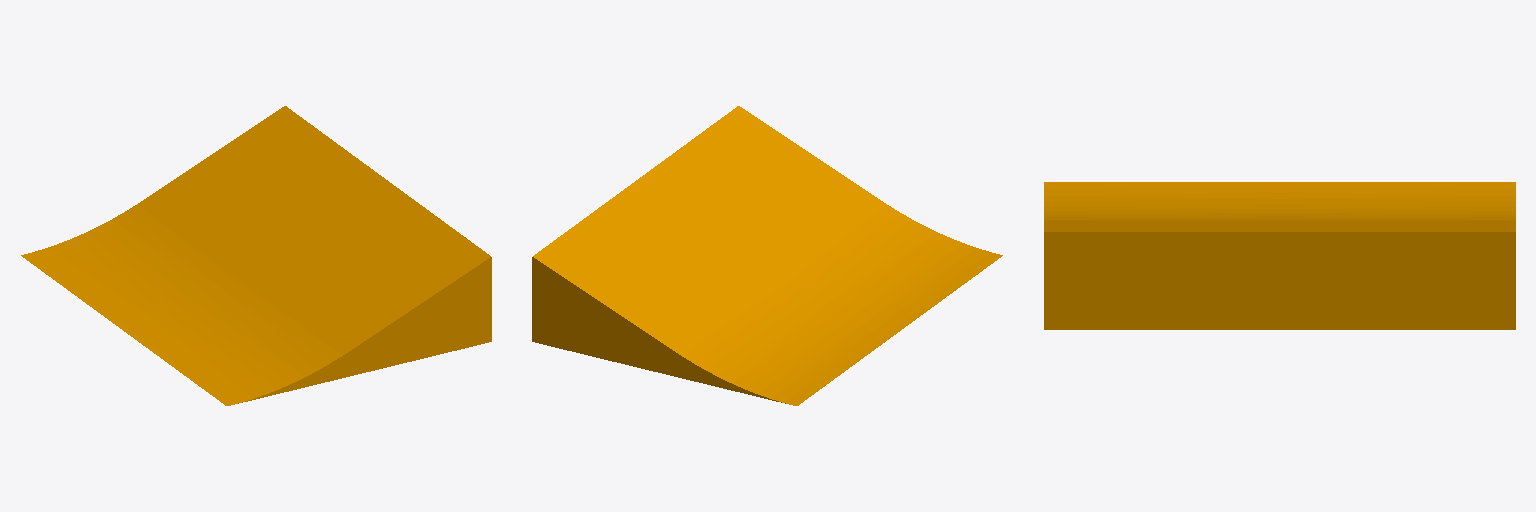
robot.urdf — jump22deg:
<?xml version="1.0"?>

<robot name="jump22deg">
  <gazebo>
    <static>true</static>
  </gazebo>
  <link name="jump22deg_link">
    <origin pose="0 0 0 0 0 0"/>
    <collision name="jump22deg_collision">
      <geometry>
        <mesh filename="package://autorally_description/urdf/jump22deg.stl" scale="0.01 0.01 0.01" />
      </geometry>
    </collision>
    
    <visual name="jump22deg_visual" cast_shadows="false">
      <geometry>
        <mesh filename="package://autorally_description/urdf/jump22deg.stl" scale="0.01 0.01 0.01" />
      </geometry>
    </visual>
    <inertial>
      <origin xyz="0 0 0" />
      <mass value="1000000000.0" />
      <inertia  ixx="1.0" ixy="0.0"  ixz="0.0"  iyy="100.0"  iyz="0.0"  izz="1.0" />
    </inertial>
  </link>
  <gazebo reference="jump22deg_link">
    <material>Gazebo/Grey</material>
    <mu1>1.0</mu1>
    <mu2>1.0</mu2>
  </gazebo>
  
</robot>

--- Render facts (derived) ---
3 views of the same robot in one strip: view 1: azimuth 30°, elevation 25°; view 2: azimuth 150°, elevation 25°; view 3: azimuth 270°, elevation 25° (orthographic).
Model jump22deg with 1 links and 0 joints (none), rooted at jump22deg_link, posed all joints at 0.
Links seen in each view (by area): view 1: jump22deg_link; view 2: jump22deg_link; view 3: jump22deg_link.
Boxes of the visible links, box(x1,y1,x2,y2) form: jump22deg_link: box(21, 106, 491, 405); jump22deg_link: box(532, 106, 1002, 405); jump22deg_link: box(1044, 182, 1515, 329).
Size in the robot's own frame: 1.48 by 2 by 0.4567 metres.
1 mesh visuals loaded from 1 distinct referenced files (1 binary STL).